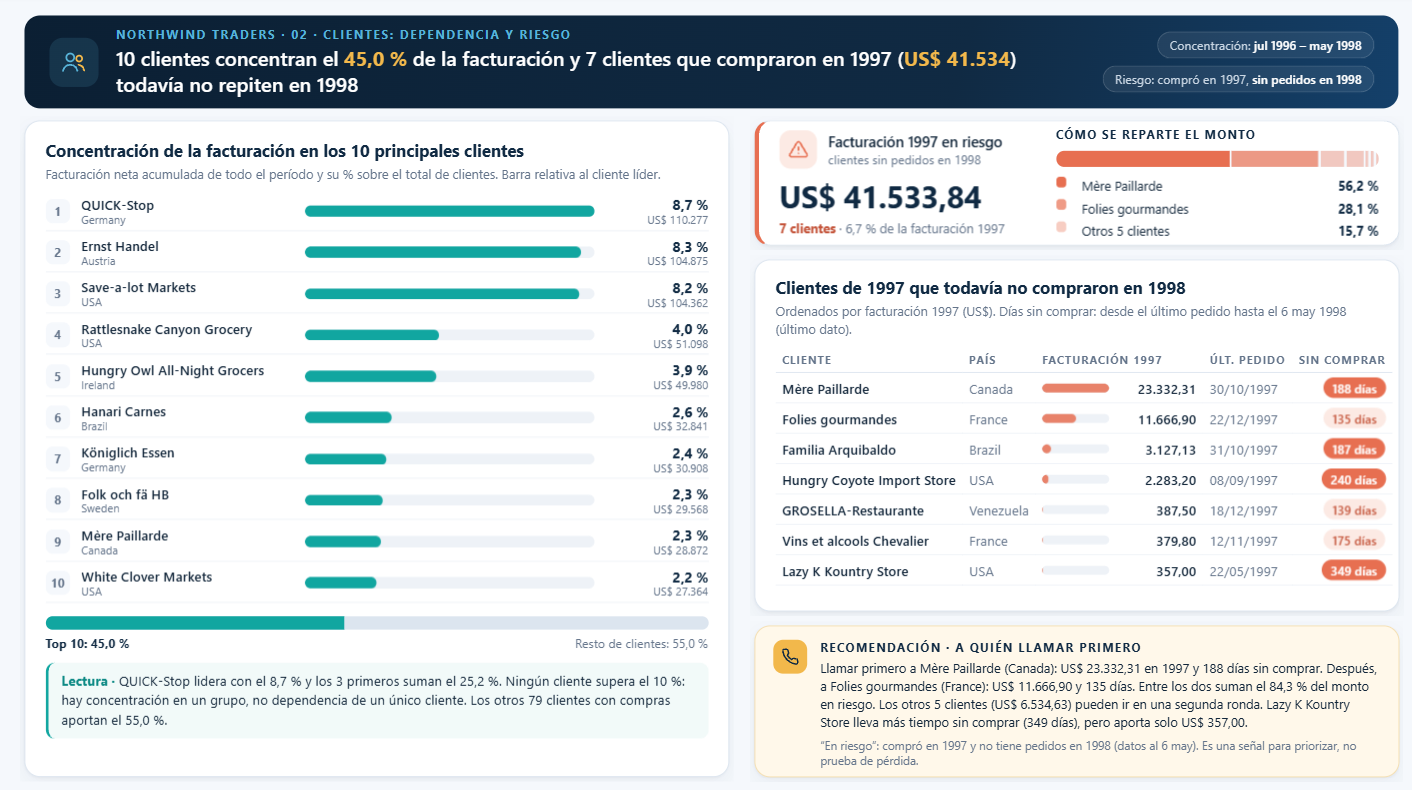

The page's visual inventory and layout, read from the dashboard file:
{"tool":"powerbi","page":{"name":"CLIENTES","canvas":[1280,720],"ordinal":1},"visuals":[{"type":"htmlContent443BE3AD55E043BF878BED274D3A6855","fields":{"content":["!medidasHTML.HTML | P2 Encabezado"]},"box":[9.7,0,1270.6,120.9],"z":0},{"type":"htmlContent443BE3AD55E043BF878BED274D3A6855","fields":{"content":["!medidasHTML.HTML | P2 Top 10 Clientes"]},"box":[9.7,94.3,671,626.2],"z":1},{"type":"htmlContent443BE3AD55E043BF878BED274D3A6855","fields":{"content":["!medidasHTML.HTML | P2 KPI Riesgo"]},"box":[663.7,94.3,616.5,149.9],"z":2},{"type":"htmlContent443BE3AD55E043BF878BED274D3A6855","fields":{"content":["!medidasHTML.HTML | P2 Tabla Riesgo"]},"box":[663.7,218.8,616.5,353],"z":3},{"type":"htmlContent443BE3AD55E043BF878BED274D3A6855","fields":{"content":["!medidasHTML.HTML | P2 Recomendacion"]},"box":[663.7,546.4,616.5,174.1],"z":4}]}

Visuals, with their boxes in screenshot pixels (x1, y1, x2, y2), scaled from the page's 1280x720 canvas onto the 1412x790 screenshot:
htmlContent443BE3AD55E043BF878BED274D3A6855 - !medidasHTML.HTML | P2 Encabezado: [left=11, top=0, right=1411, bottom=133]
htmlContent443BE3AD55E043BF878BED274D3A6855 - !medidasHTML.HTML | P2 Top 10 Clientes: [left=11, top=103, right=751, bottom=789]
htmlContent443BE3AD55E043BF878BED274D3A6855 - !medidasHTML.HTML | P2 KPI Riesgo: [left=732, top=103, right=1411, bottom=268]
htmlContent443BE3AD55E043BF878BED274D3A6855 - !medidasHTML.HTML | P2 Tabla Riesgo: [left=732, top=240, right=1411, bottom=627]
htmlContent443BE3AD55E043BF878BED274D3A6855 - !medidasHTML.HTML | P2 Recomendacion: [left=732, top=600, right=1411, bottom=789]
